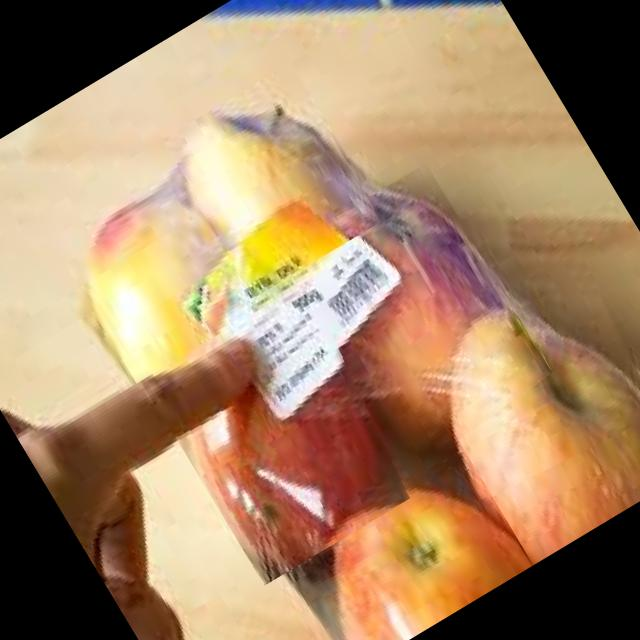Organic: (288, 163, 559, 467), (158, 311, 426, 585), (412, 261, 640, 565), (159, 62, 384, 298), (294, 444, 532, 640)
